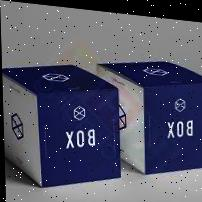cube: (1, 58, 119, 193), (108, 52, 202, 174)
